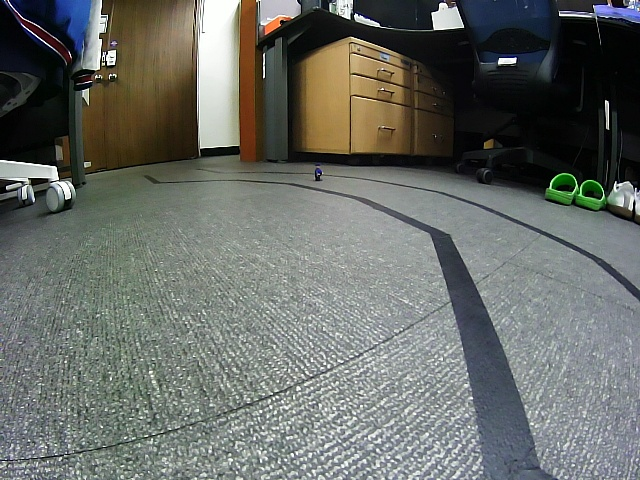person: (314, 165, 323, 181)
